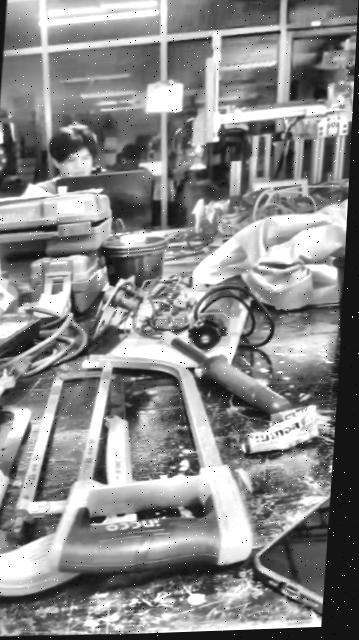pot: (333, 254, 345, 330)
